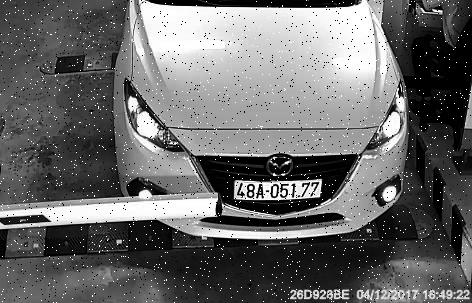License-plate: (229, 174, 324, 208)
